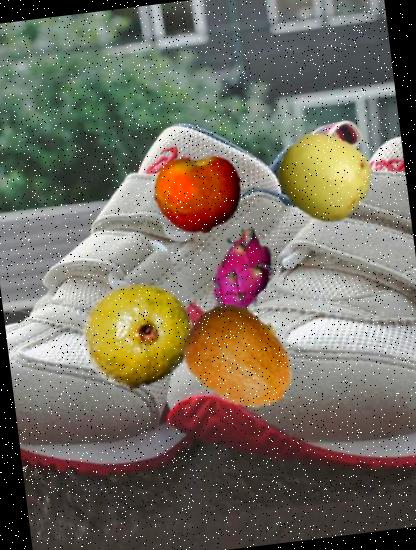Apple: (274, 126, 375, 227)
Guava: (74, 272, 200, 398)
Kiwi: (172, 293, 308, 429)
Nectarine: (149, 146, 248, 245)
Pitahaya: (191, 222, 291, 322)
